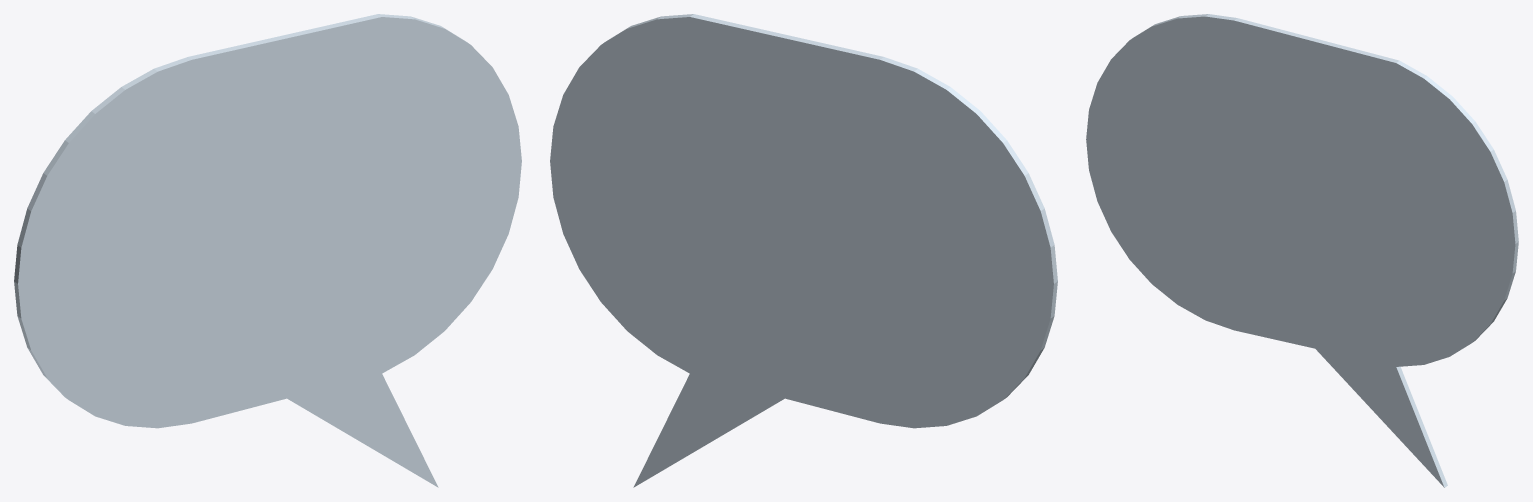
Rendered from Text_Message_3D_Icon_01.fbx.
3 renders of one model, left to right at view 1: azimuth 30°, elevation 25°; view 2: azimuth 150°, elevation 25°; view 3: azimuth 330°, elevation 25°, orthographic. The views are drawn at different scales.
Parts seen in each view (by area): view 1: Text_Message_3D_Icon_01; view 2: Text_Message_3D_Icon_01; view 3: Text_Message_3D_Icon_01.
Boxes of the visible parts, left/top/right/bottom form: Text_Message_3D_Icon_01: left=14, top=14, right=521, bottom=487; Text_Message_3D_Icon_01: left=550, top=14, right=1057, bottom=487; Text_Message_3D_Icon_01: left=1086, top=14, right=1518, bottom=487.
Bounding box in the file's own units: 145 × 134 × 2.
